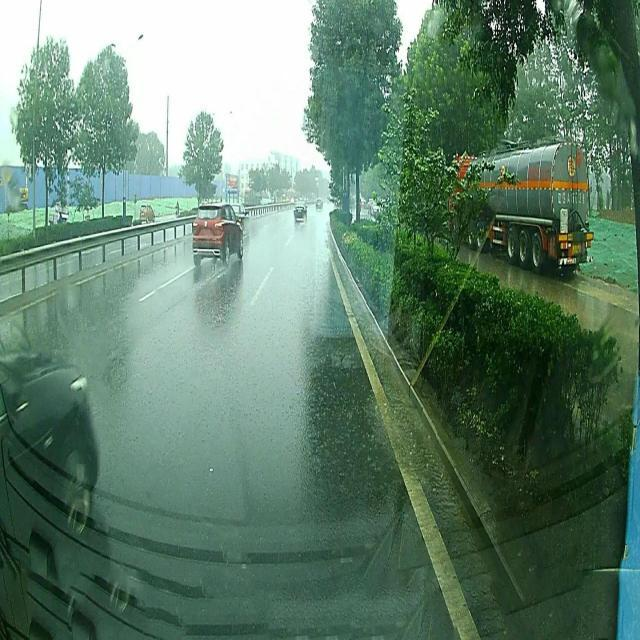car: (0, 345, 98, 546), (190, 203, 244, 268), (138, 202, 156, 222), (293, 202, 308, 221), (316, 195, 324, 209)
